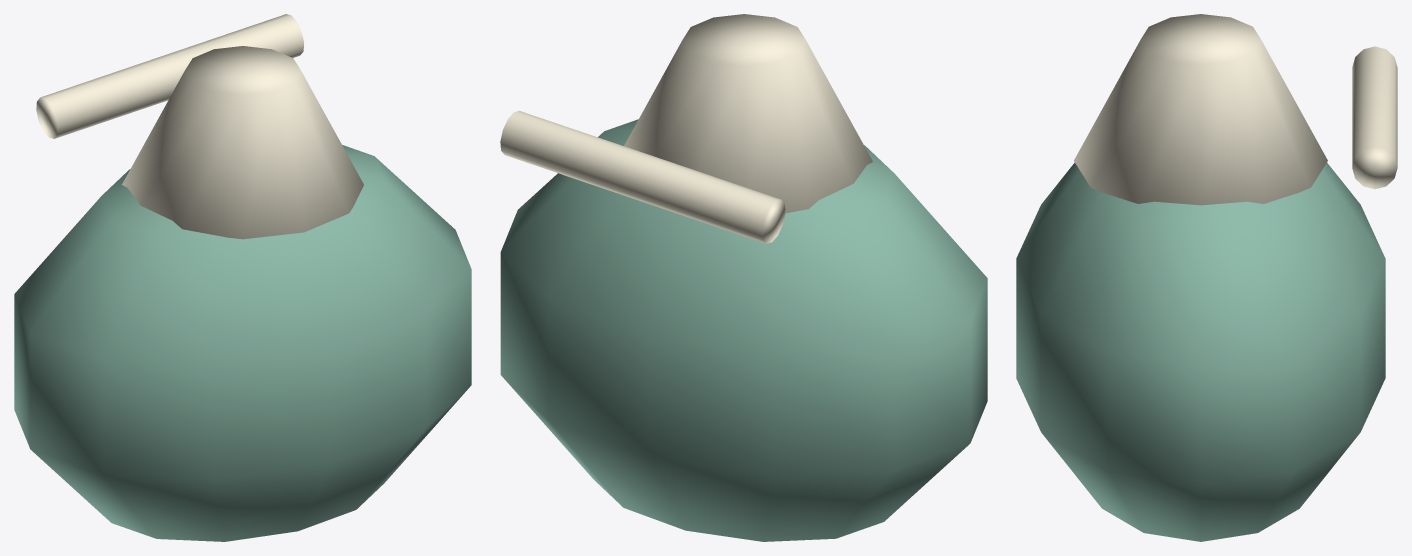
Rendered from lost_pouch.glb.
The picture shows the model from 3 angles, left to right: view 1: azimuth 30°, elevation 25°; view 2: azimuth 150°, elevation 25°; view 3: azimuth 270°, elevation 25°; orthographic projection. The views are drawn at different scales.
Size of the model in its own units: 0.3804 by 0.39 by 0.2849.
